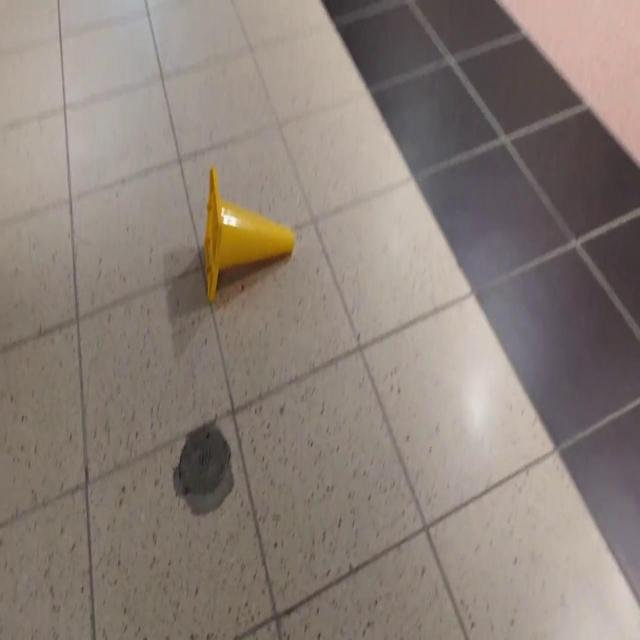frc_cone: (202, 163, 296, 305)
